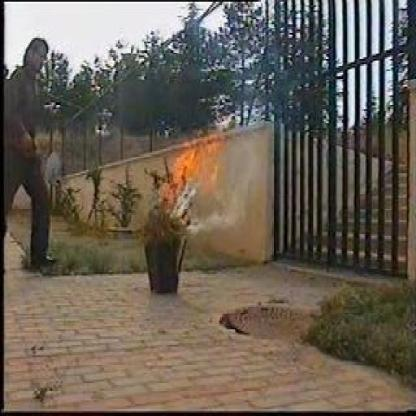-: (190, 187, 233, 232)
foggia-v2-map80-epoch100 - v1 4323: (171, 135, 215, 184)
